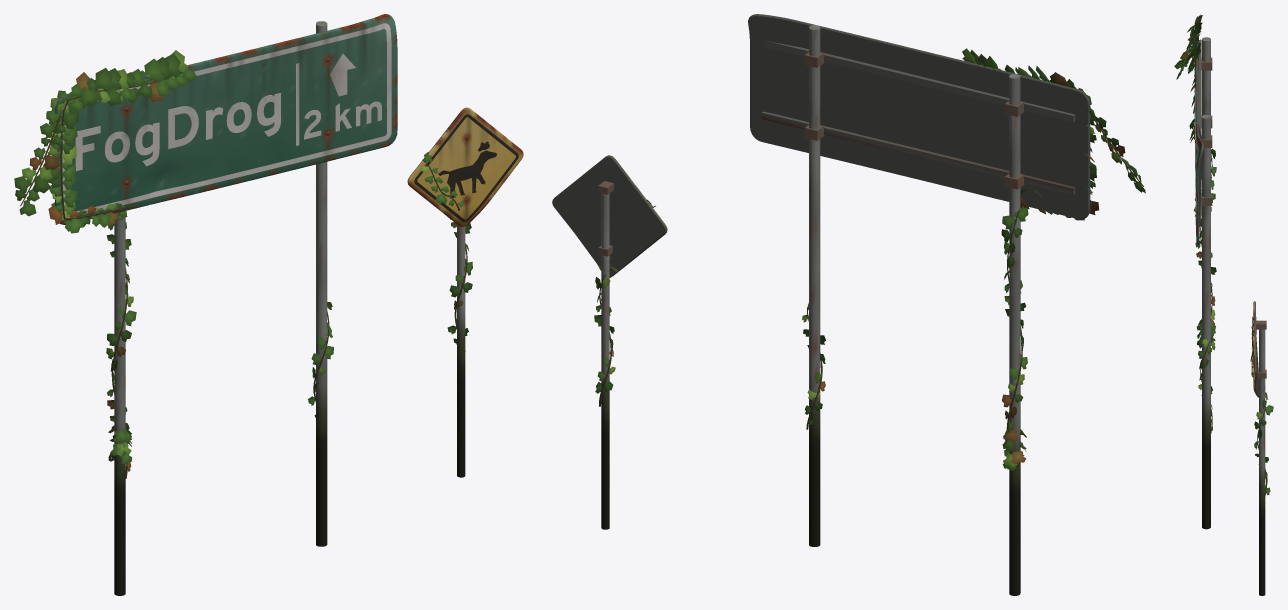
Rendered from sign.glb.
3 renders of one model, left to right at view 1: azimuth 30°, elevation 25°; view 2: azimuth 150°, elevation 25°; view 3: azimuth 270°, elevation 25°, orthographic. The views are drawn at different scales.
Visible parts, largest first — view 1: Sign, Diamond; view 2: Sign, Diamond; view 3: Sign, Diamond.
Part boxes in pixels (x1,y1,x2,y2): Sign: [14, 14, 397, 595]; Diamond: [407, 107, 523, 477]; Sign: [748, 14, 1145, 595]; Diamond: [552, 155, 667, 529]; Sign: [1174, 14, 1216, 529]; Diamond: [1250, 301, 1273, 595].
Size of the model in its own units: 5.19 by 4.81 by 1.03.
